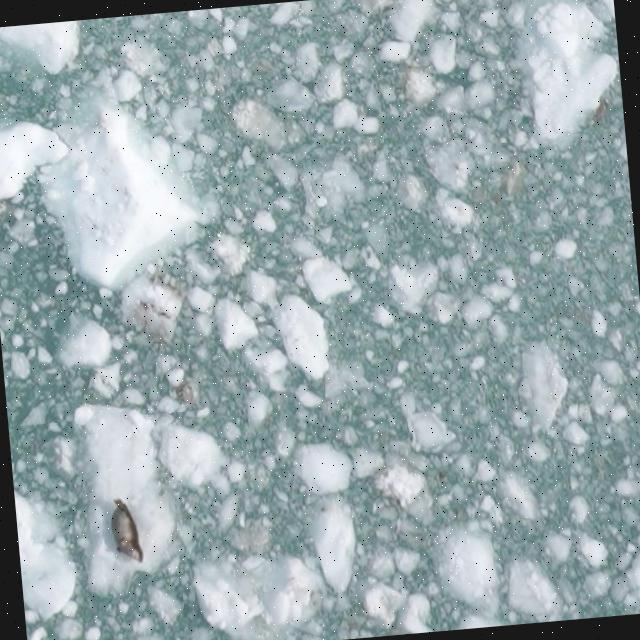seal: (103, 494, 145, 568)
